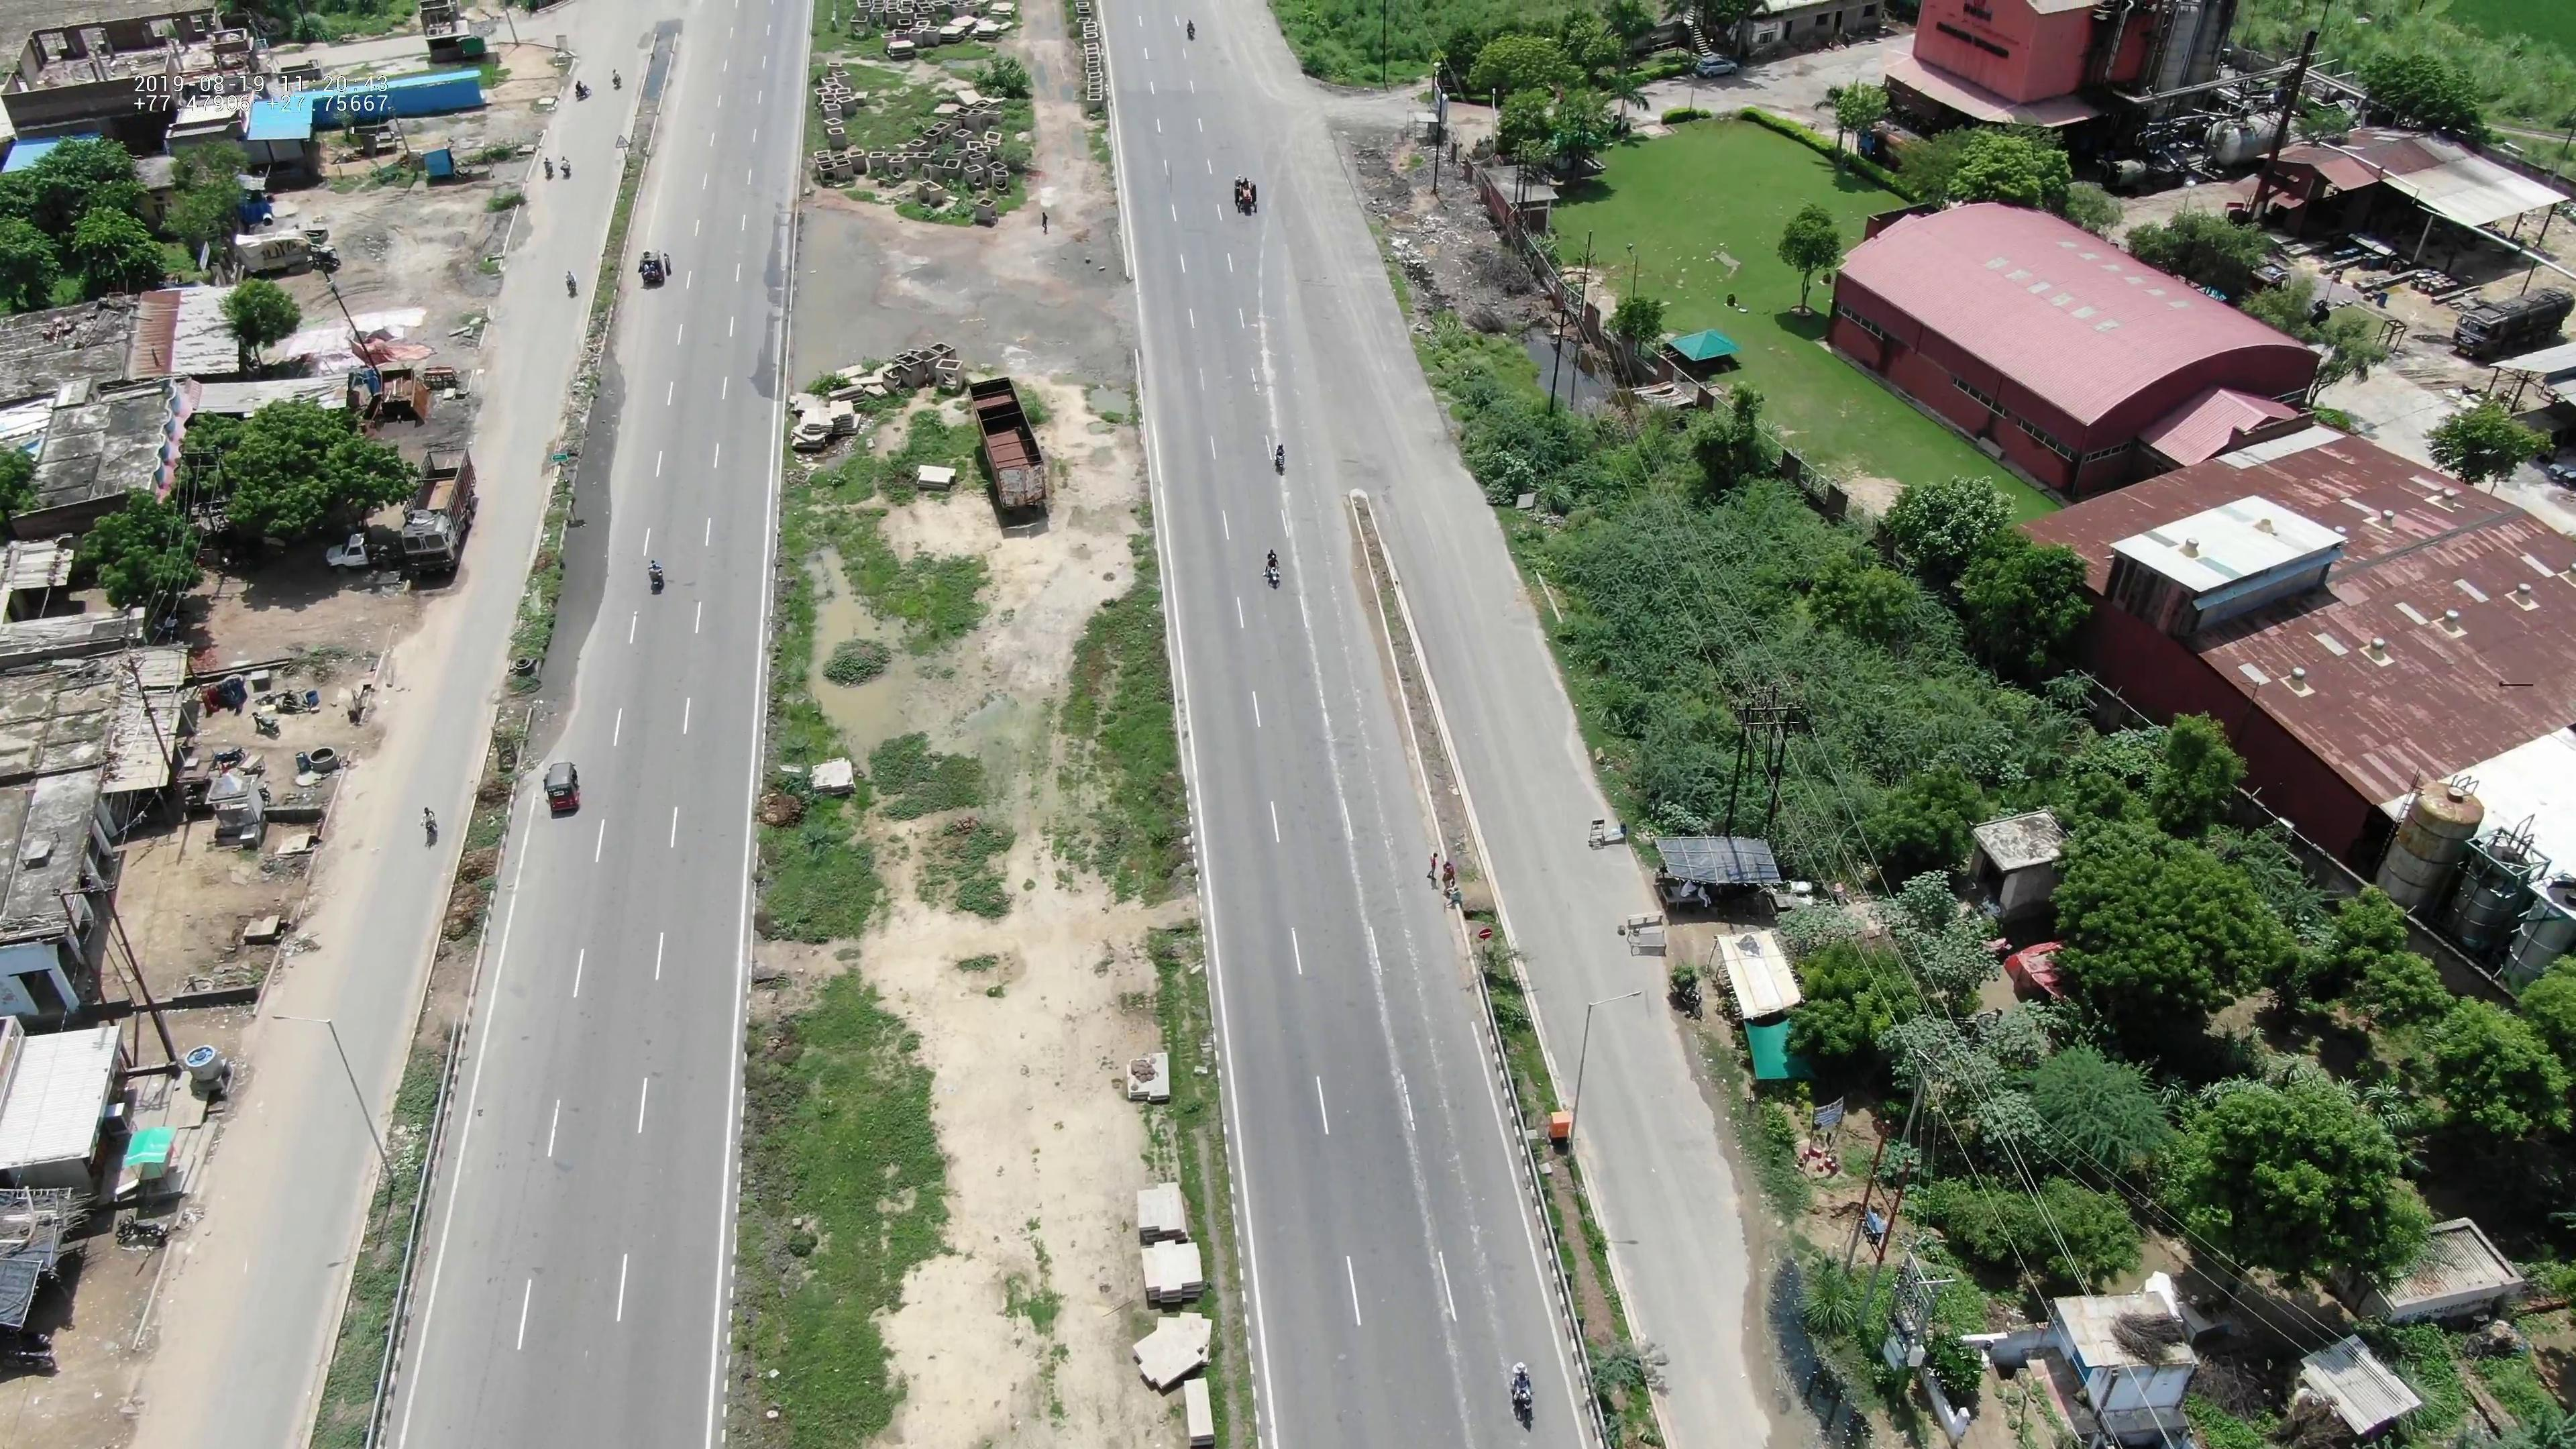Ravelling: (1445, 1138, 1502, 1292), (1394, 1108, 1435, 1263), (1343, 655, 1380, 796), (1281, 518, 1316, 658), (1362, 941, 1399, 1063), (1254, 315, 1281, 428)
Waterlogging: (533, 400, 626, 688), (1757, 1260, 1868, 1445)
